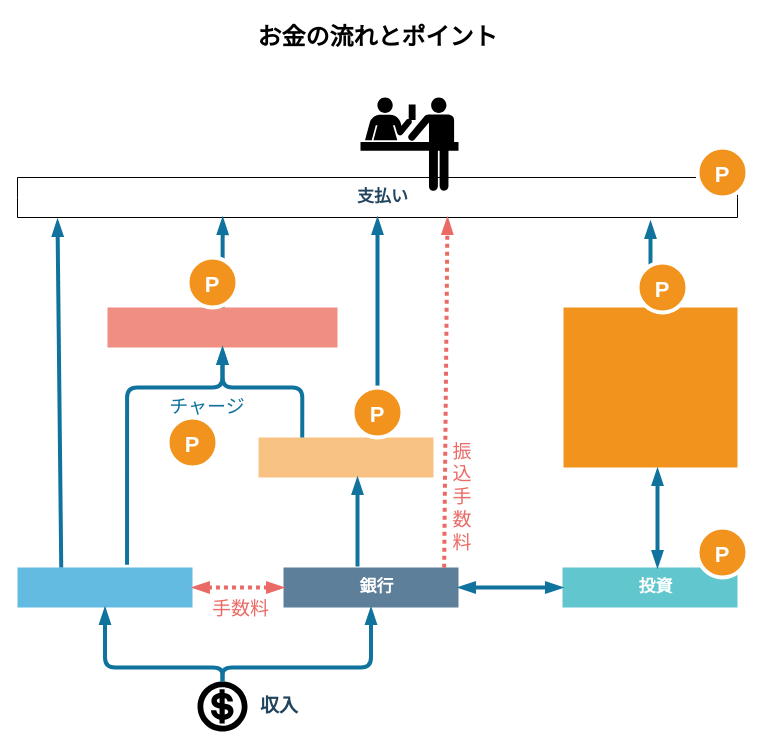
Some shapes in this 767 by 748 pixel diagram are drawn without their labels. The centre of each missing label's shape, as x and y in pixels:
"クレジットカード" goes at (345,457).
"ポイント" goes at (650,387).
"現金" goes at (104,587).
"電子マネー" goes at (222,327).
